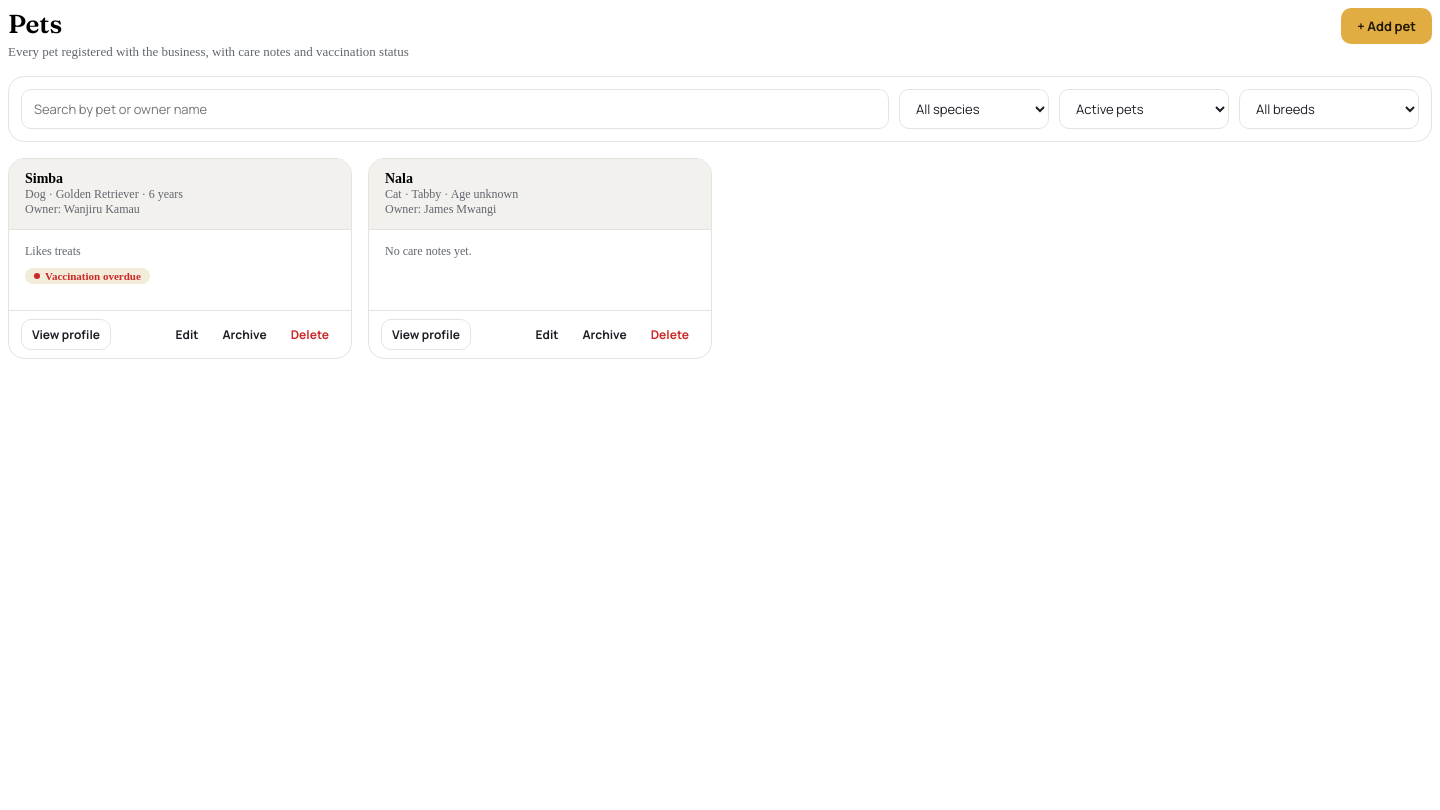
Scenario: PetsPage › explains why a pet with history can't be deleted and never sends the delete
Expected: the text "Simba" is shown, x1=25 y1=171 x2=63 y2=186
Click the button with aria-label "Delete Simba".
click(310, 334)  # box x1=281 y1=320 x2=339 y2=349
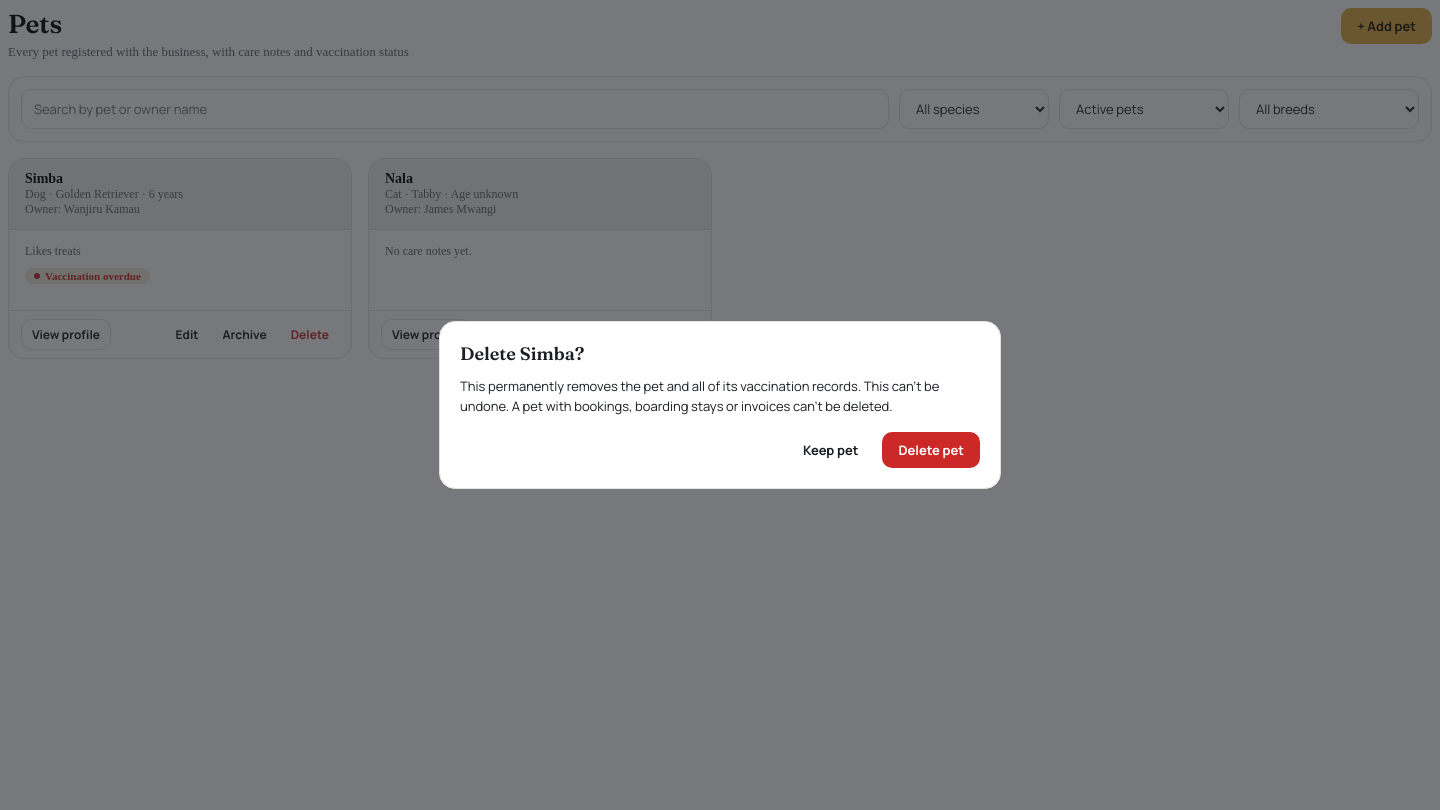
Click the button "Delete pet".
click(931, 450)  # box x1=882 y1=432 x2=980 y2=468
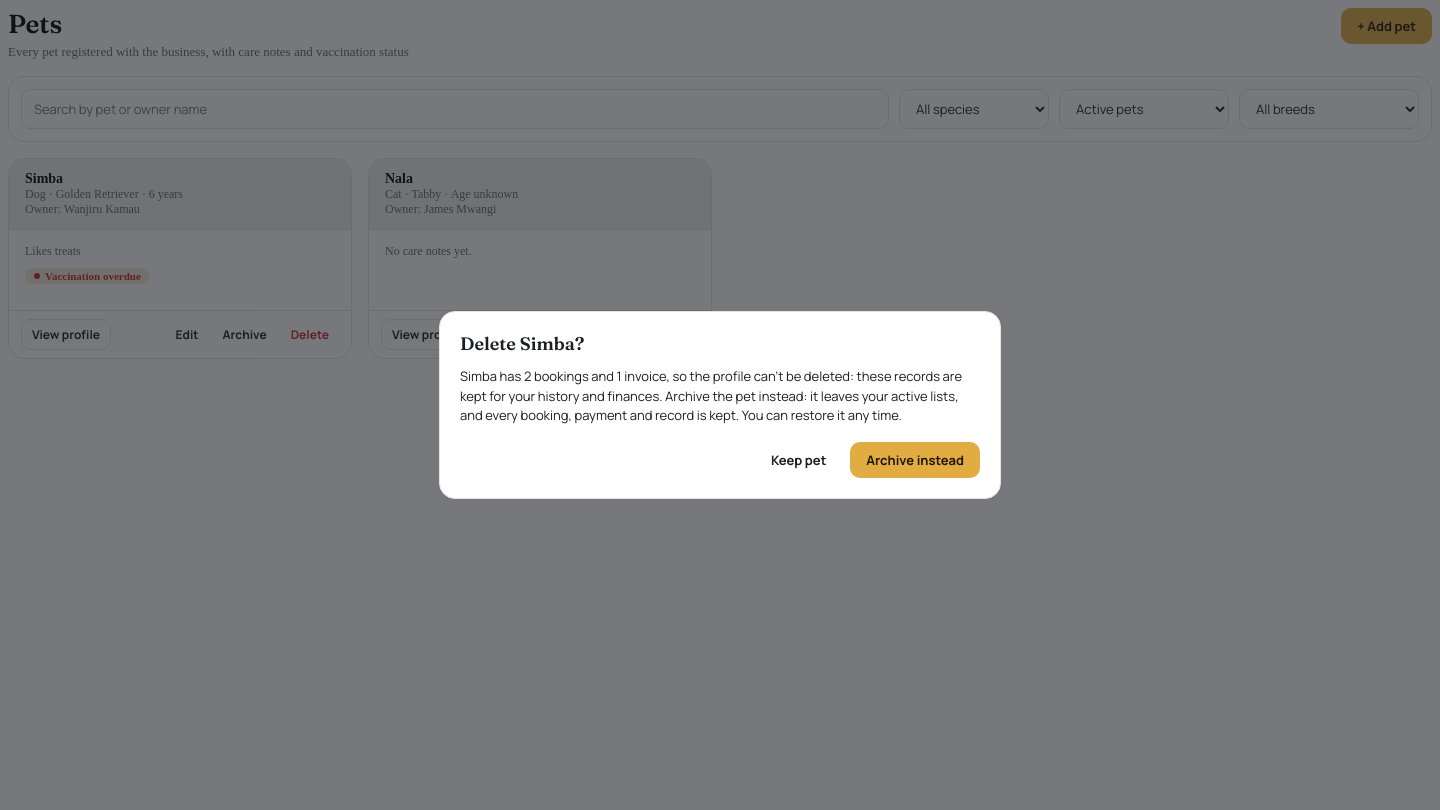
Expected: the text "Simba" is shown, x1=25 y1=171 x2=63 y2=186
Expected: the text "kept for your history and finances" is shown, x1=460 y1=367 x2=962 y2=424
Expected: the button "Delete pet" is gone
